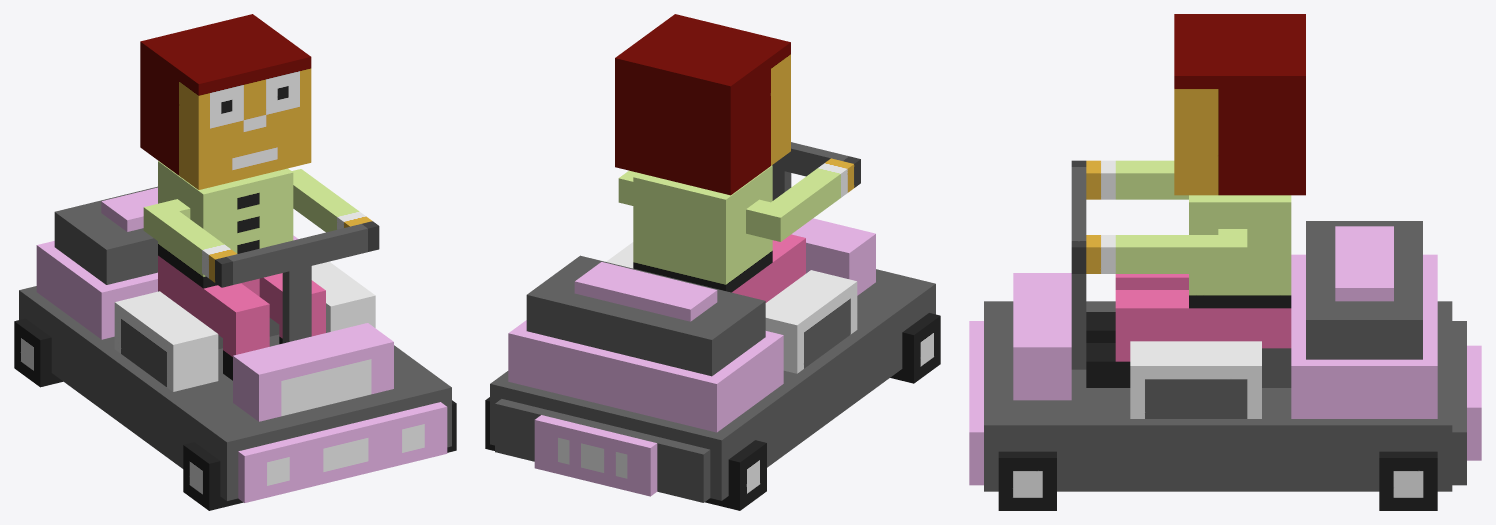
File: Character_5.fbx
3 views of the same model, side by side, from view 1: azimuth 30°, elevation 25°; view 2: azimuth 150°, elevation 25°; view 3: azimuth 270°, elevation 25° (orthographic). The views are drawn at different scales.
Visible parts, largest first — view 1: Character_5; view 2: Character_5; view 3: Character_5.
Boxes of the visible parts, x1,y1,x2,y2 form: Character_5: [14, 14, 456, 510]; Character_5: [485, 14, 940, 510]; Character_5: [969, 14, 1481, 510].
Bounding box in the file's own units: 22 × 30 × 35.
1 material, 1 textured.
